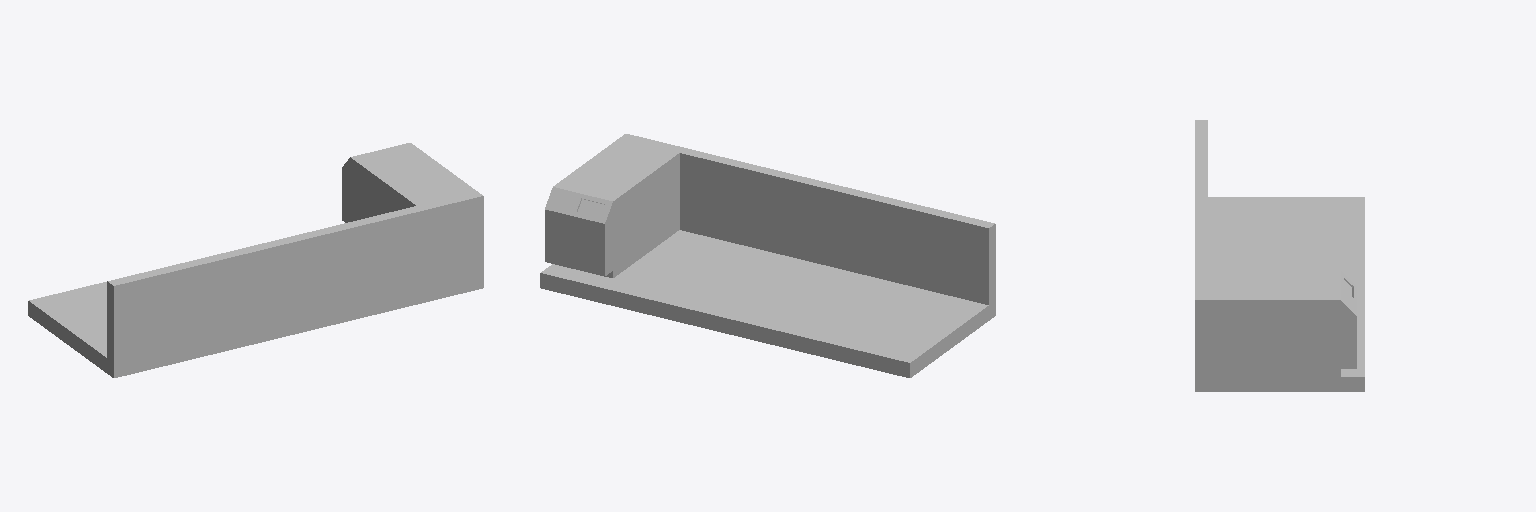
Rendered from Frame.obj.
The picture shows the model from 3 angles: view 1: azimuth 30°, elevation 25°; view 2: azimuth 150°, elevation 25°; view 3: azimuth 270°, elevation 25°; orthographic projection.
Visible parts, largest first — view 1: Frame; view 2: Frame; view 3: Frame.
Part boxes in pixels (x1,y1,x2,y2): Frame: (28,143,483,377); Frame: (540,134,995,377); Frame: (1195,120,1364,391).
Bounding box in the file's own units: 4 × 0.9559 × 1.6.